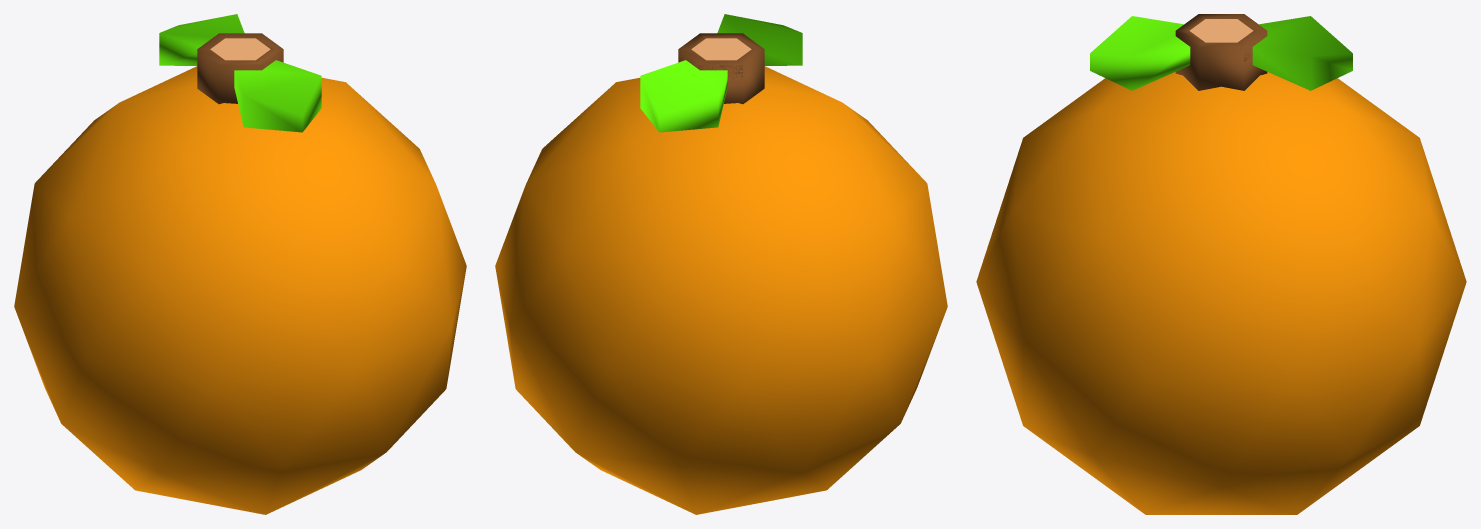
The model's file is item_orange.fbx.
3 views of the same model, side by side, from view 1: azimuth 30°, elevation 25°; view 2: azimuth 150°, elevation 25°; view 3: azimuth 270°, elevation 25° (orthographic). The views are drawn at different scales.
Visible parts, largest first — view 1: Cylinder; view 2: Cylinder; view 3: Cylinder.
Part boxes in pixels (bbox=[...]): Cylinder: bbox=[14, 14, 466, 514]; Cylinder: bbox=[495, 14, 947, 514]; Cylinder: bbox=[976, 14, 1466, 514].
Size of the model in its own units: 190 by 213 by 200.
